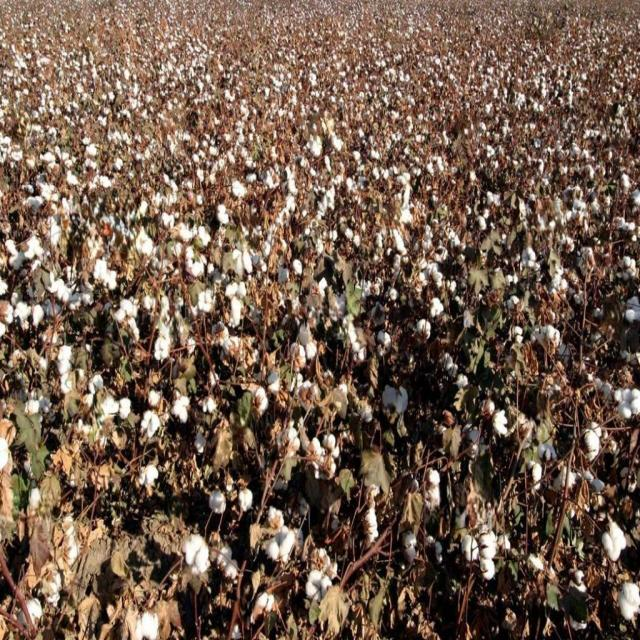Late_blight: (461, 525, 503, 581), (266, 497, 298, 561), (263, 502, 298, 556), (181, 521, 212, 580), (183, 521, 216, 575), (83, 250, 122, 291), (129, 600, 167, 640), (56, 331, 78, 395), (614, 375, 640, 425), (423, 456, 445, 514), (576, 415, 602, 463), (614, 573, 638, 620), (424, 456, 444, 509), (602, 518, 624, 566), (24, 480, 42, 501)
